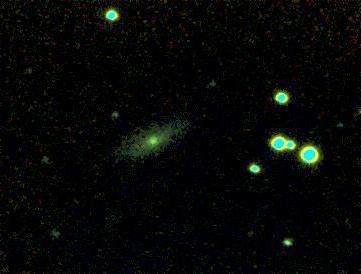star: (17, 56, 47, 86)
